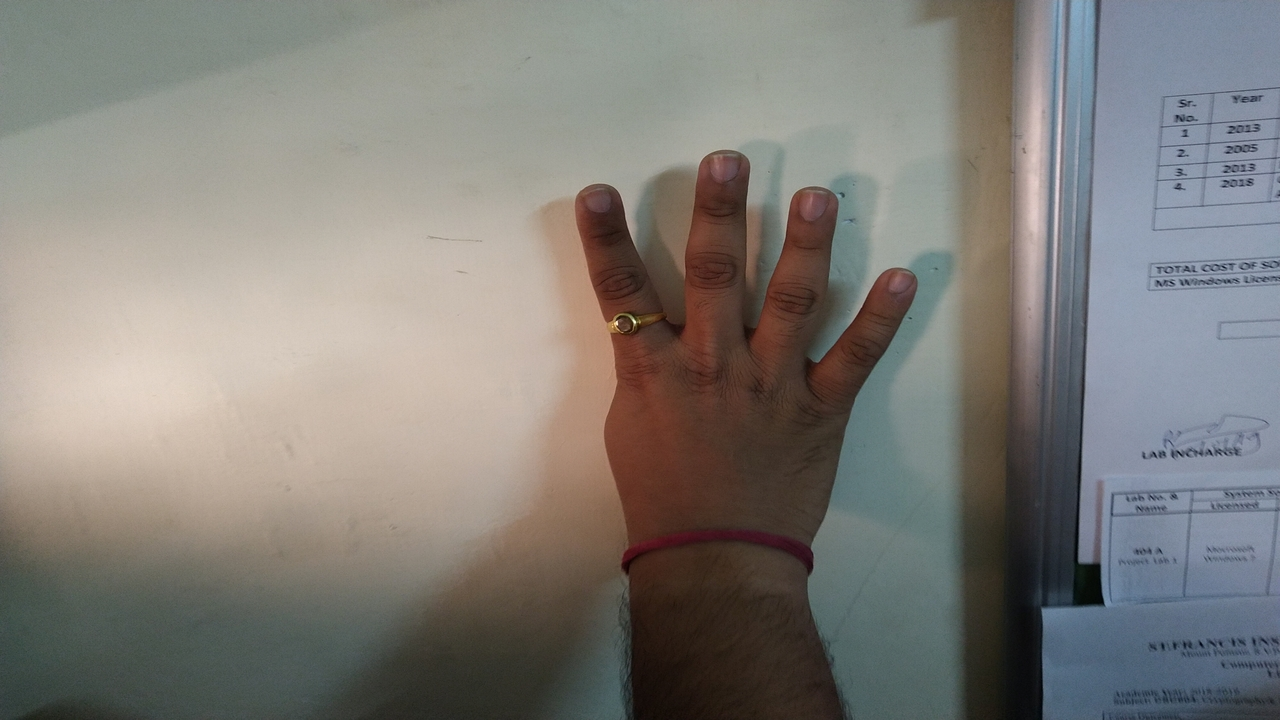fingertip: (692, 146, 752, 204), (782, 178, 842, 234), (866, 260, 928, 310), (572, 176, 630, 226)
